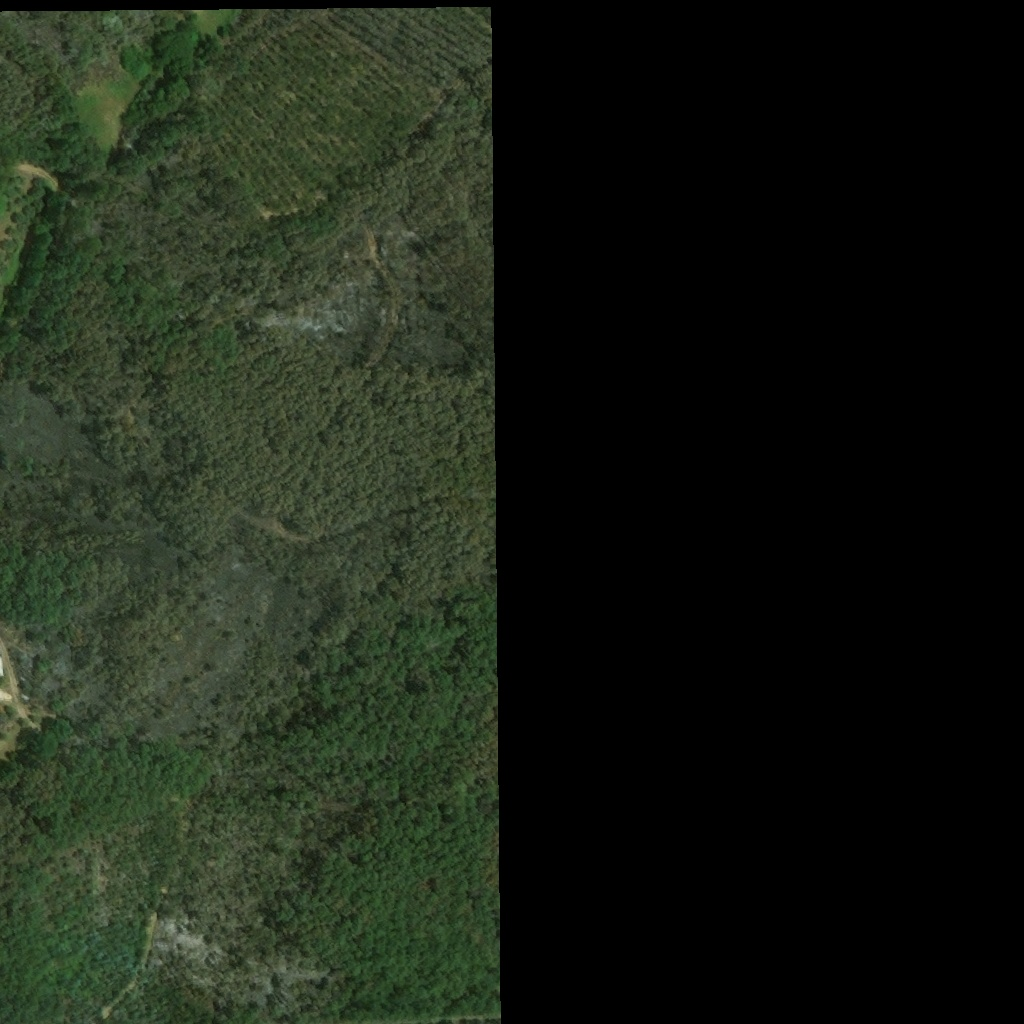4 un-classified: (0, 648, 4, 677)
